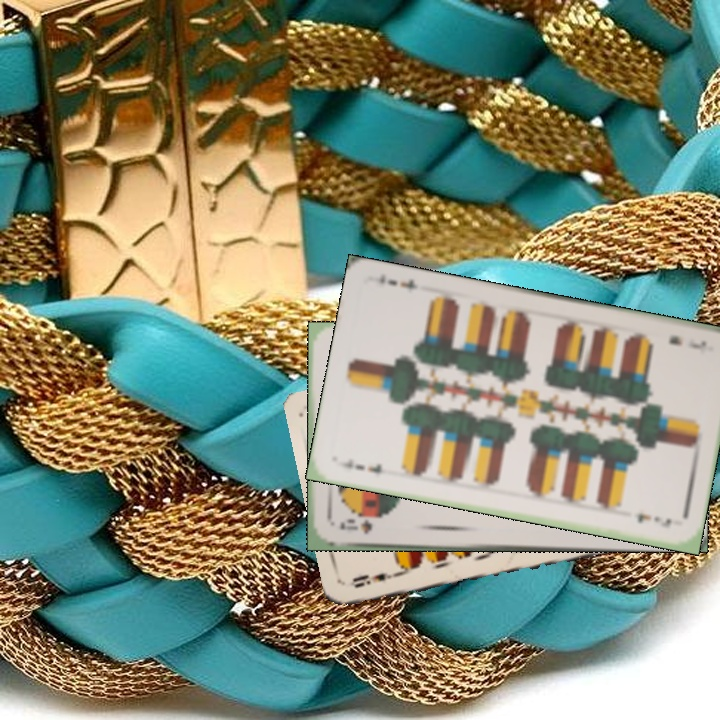E7: (335, 455, 386, 476), (665, 331, 710, 352)
E9: (345, 568, 403, 591)
SO: (336, 515, 375, 537)
